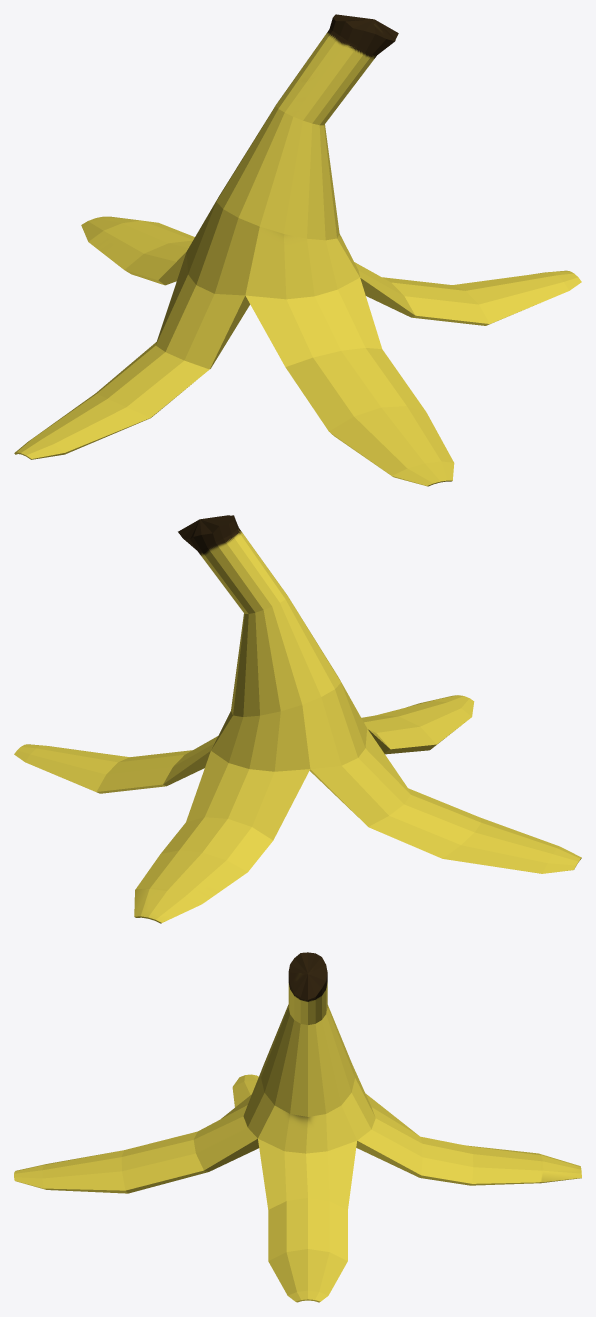
The model's file is BananaPeel.fbx.
3 renders of one model, top to bottom at view 1: azimuth 30°, elevation 25°; view 2: azimuth 150°, elevation 25°; view 3: azimuth 270°, elevation 25°, orthographic. The views are drawn at different scales.
Visible parts, largest first — view 1: Banana Peel; view 2: Banana Peel; view 3: Banana Peel.
Boxes of the visible parts, x1=… form: Banana Peel: x1=14, y1=14, x2=581, y2=486; Banana Peel: x1=14, y1=515, x2=581, y2=923; Banana Peel: x1=14, y1=952, x2=581, y2=1302.
Bounding box in the file's own units: 151 × 79.42 × 147.
